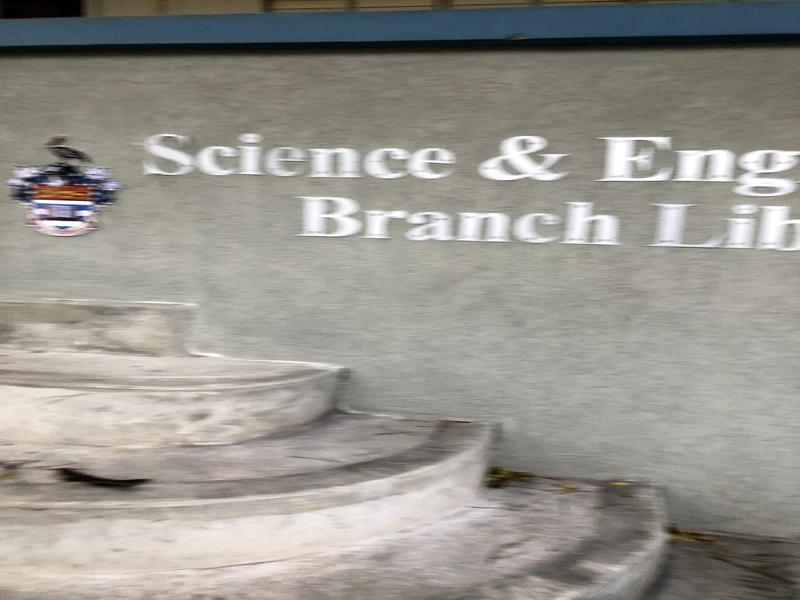18.0053644_-76.7493880_librarysign: (121, 119, 800, 303)
